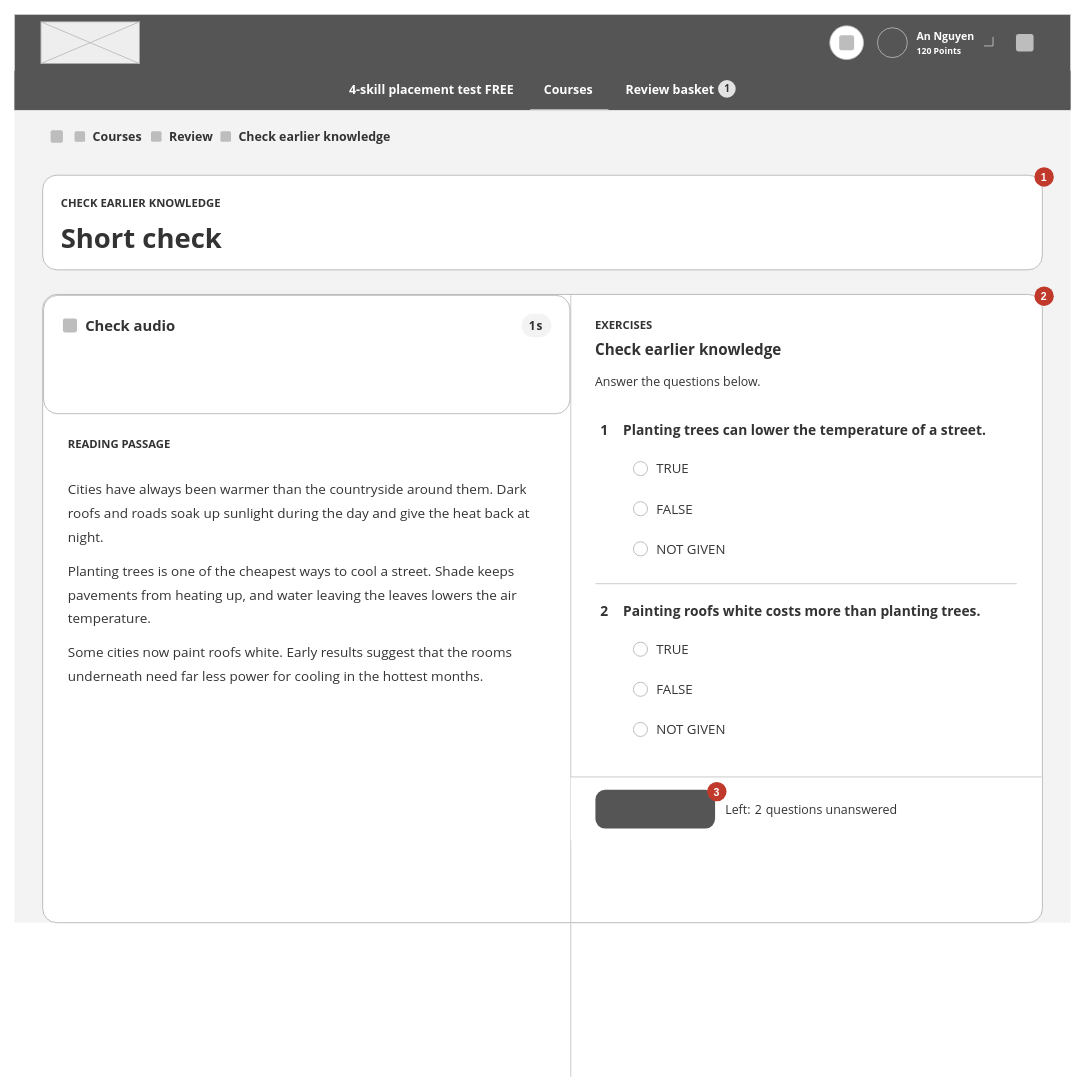
Some shapes in this 1085 by 1091 pixel diagram are drawn without their labels. Each missing label, with the centre of its shape:
"AN" goes at (x=892, y=42).
"Submit" goes at (x=655, y=808).
